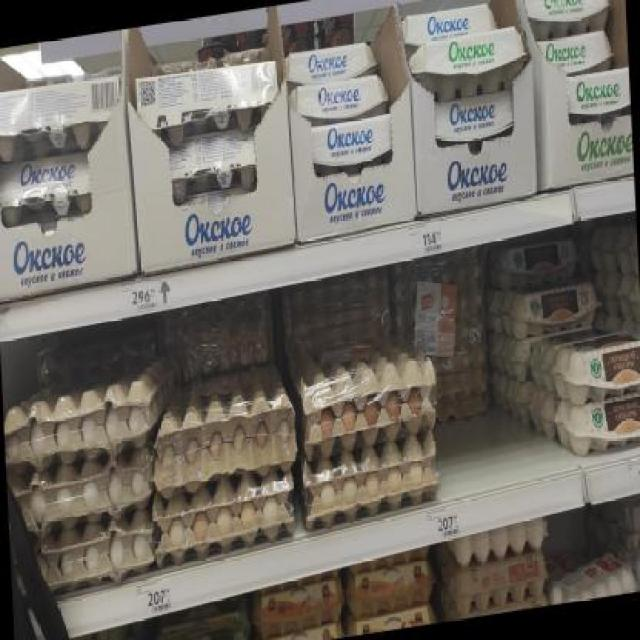Egg: (405, 24, 530, 107), (0, 149, 95, 226), (500, 274, 603, 343), (551, 329, 640, 408), (445, 549, 550, 614), (555, 385, 640, 461), (485, 230, 583, 293), (251, 575, 346, 639), (308, 112, 398, 179), (280, 34, 378, 94), (288, 70, 390, 124), (344, 559, 436, 618), (397, 0, 498, 46), (532, 25, 616, 80), (432, 92, 512, 143), (566, 65, 631, 124), (522, 1, 612, 40)
